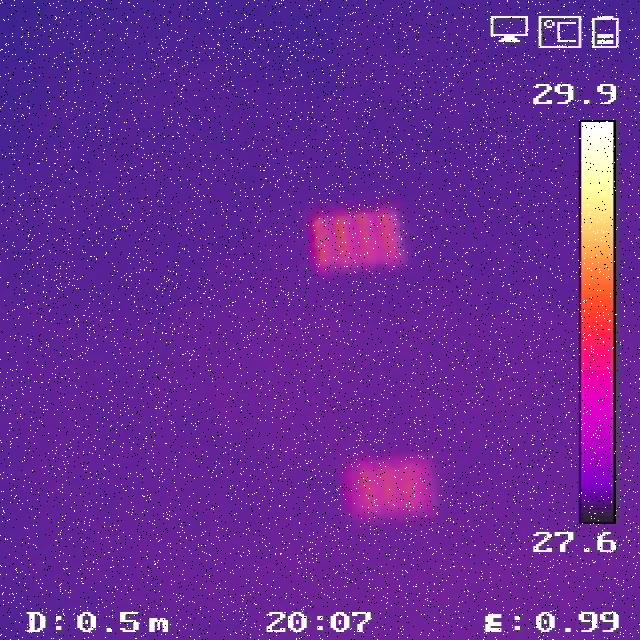Indistinguishable 4-bar target: (346, 462, 434, 515)
threshold 4-bar target: (309, 208, 404, 272)
